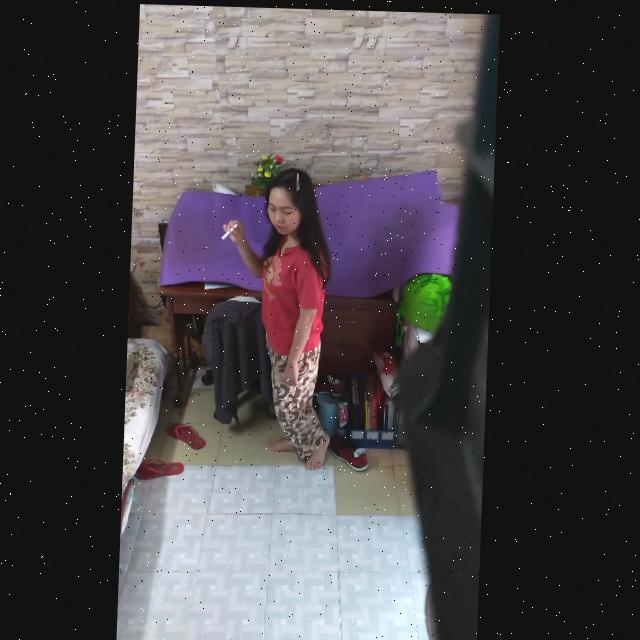cigarette: (223, 222, 240, 239)
